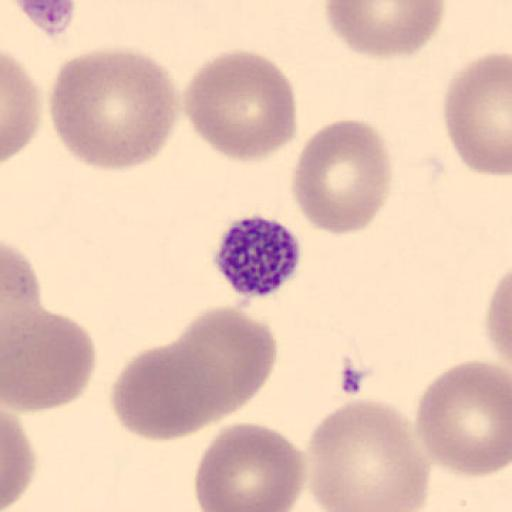Platelet: (210, 212, 305, 299)
RBC: (48, 44, 181, 173), (0, 254, 98, 412), (303, 398, 431, 512), (181, 49, 298, 163), (110, 339, 230, 444), (173, 304, 279, 422), (291, 117, 393, 237), (413, 357, 511, 479), (192, 420, 306, 512), (2, 306, 98, 412), (442, 50, 512, 178), (323, 1, 446, 60), (0, 50, 41, 164), (1, 408, 37, 512), (483, 267, 512, 371)
